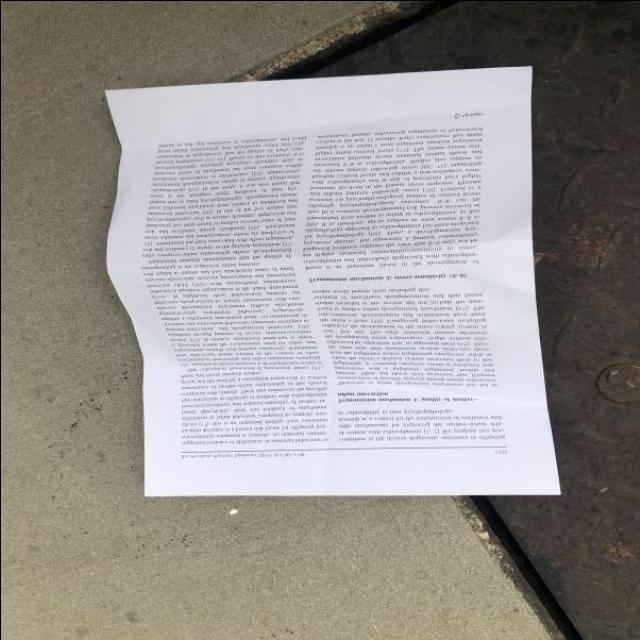kertas: (96, 64, 559, 519)
